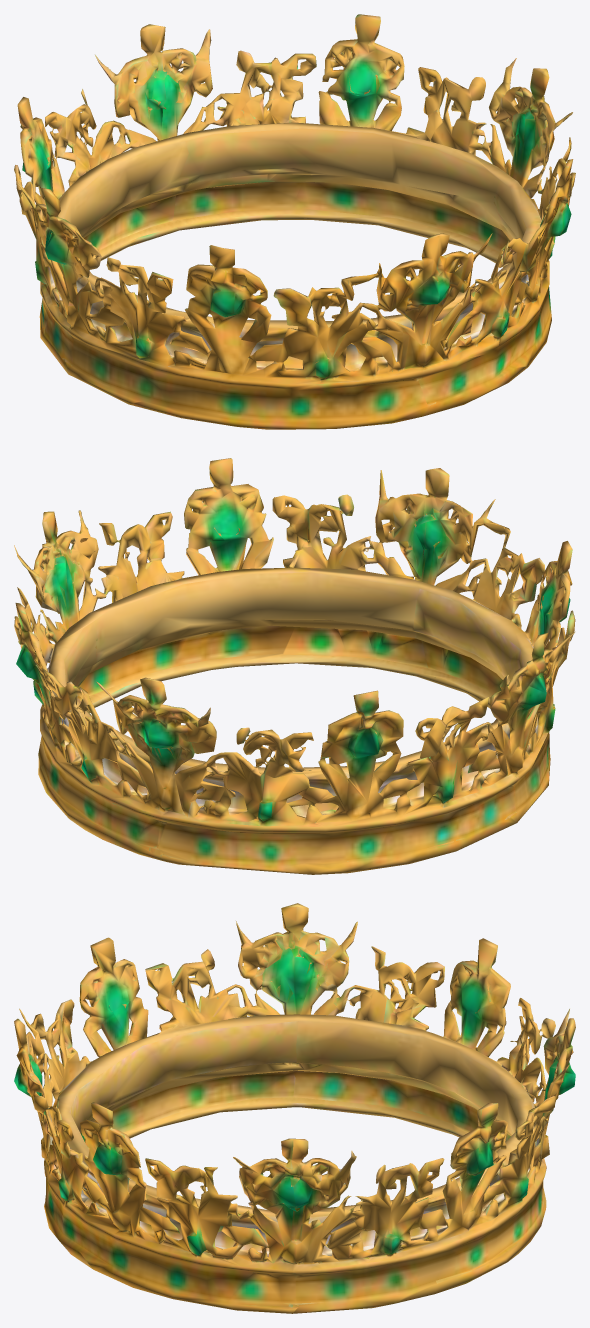
3 views of the same model, one above another, from view 1: azimuth 30°, elevation 25°; view 2: azimuth 150°, elevation 25°; view 3: azimuth 270°, elevation 25° (orthographic). The views are drawn at different scales.
Size of the model in its own units: 2 by 0.7372 by 1.99.
Materials: 1 (1 with a texture image).
